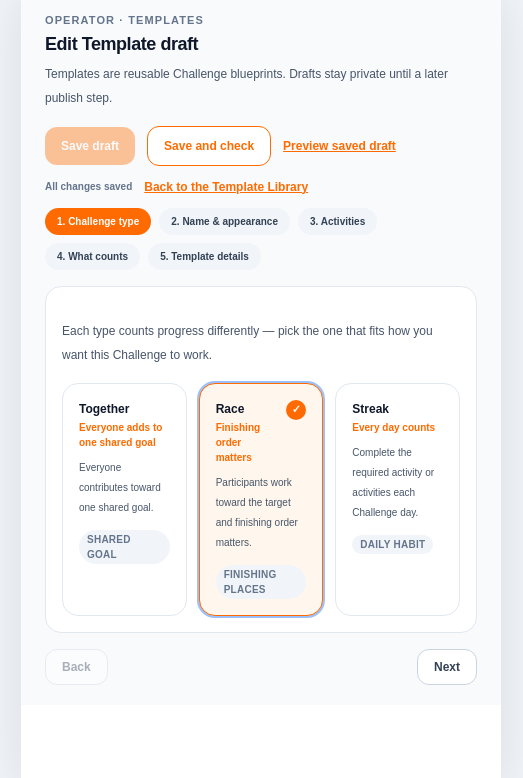
it: stale results › if the stored draft moved on while it was being checked, the result is not presented and the conflict is reconciled
expect the navigation bar named "Editor steps" is shown: met, box [45,208,377,270]
What coordinates should you click on to do the following:
click the button "Save and check"
I would click on:
 (209, 146)
Its box is [147,126,271,166].
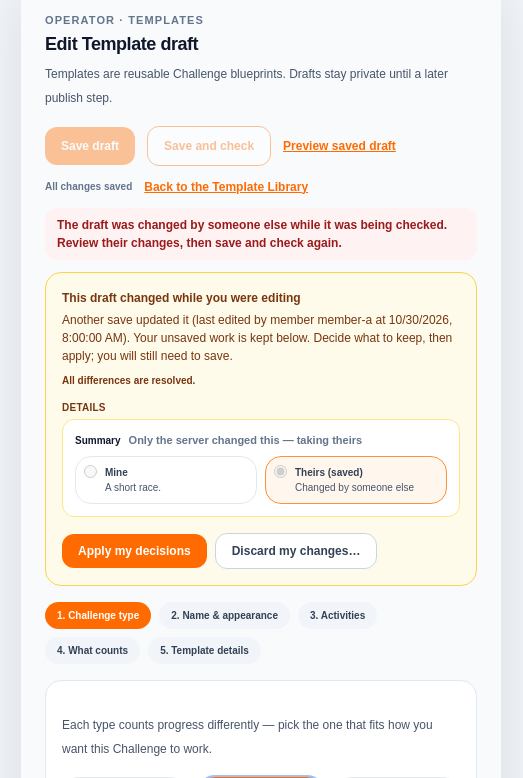
expect the text "changed by someone else while it was being checked" is shown: met, box [57,218,447,250]
expect the button "Apply my decisions" is shown: met, box [62,534,207,568]
